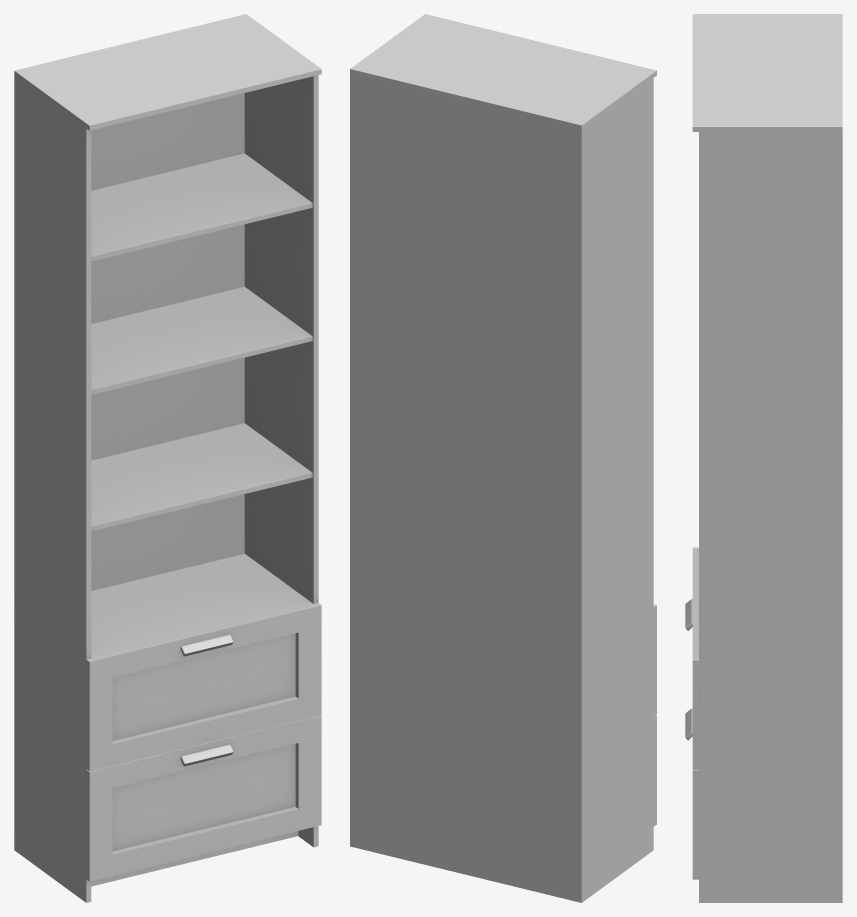
File: Shelve_010White.gltf
The picture shows the model from 3 angles, left to right: view 1: azimuth 30°, elevation 25°; view 2: azimuth 150°, elevation 25°; view 3: azimuth 270°, elevation 25°; orthographic projection.
Parts seen in each view (by area): view 1: Shelf_010; view 2: Shelf_010; view 3: Shelf_010.
Part boxes in pixels (x1,y1,x2,y2): Shelf_010: (14,14,321,902); Shelf_010: (350,14,656,902); Shelf_010: (685,14,842,902).
Size of the model in its own units: 0.5943 by 1.91 by 0.3505.
Materials: 1 (1 with a texture image).
